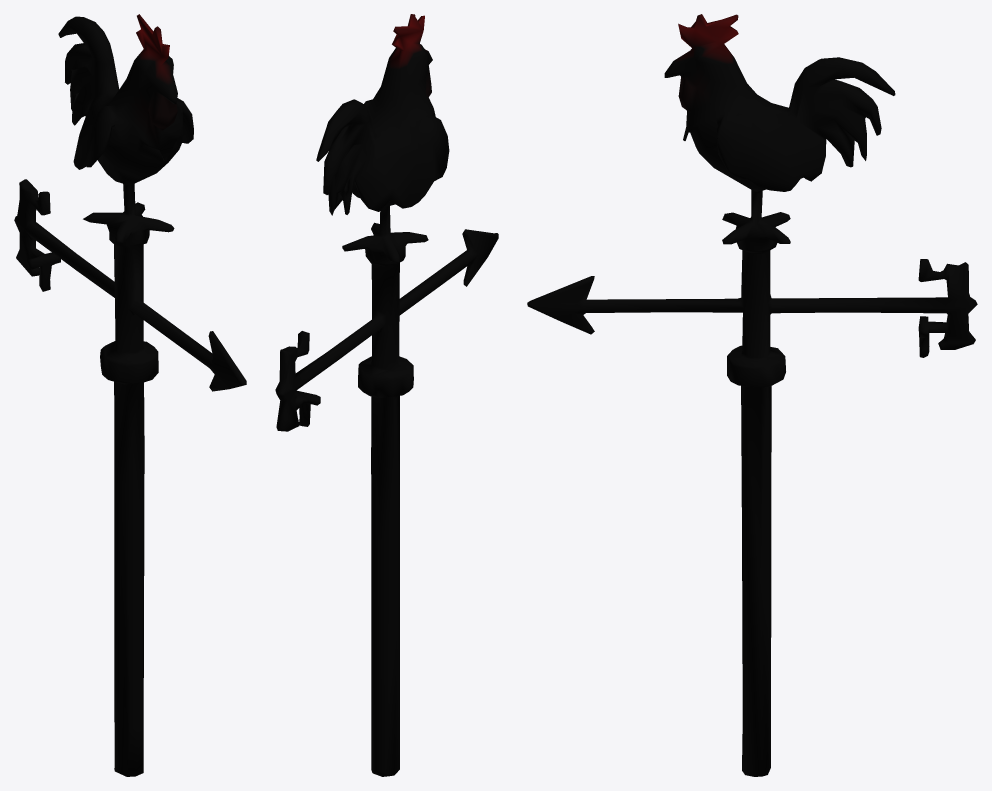
File: gen3d-weather-vane-lod1.glb
The picture shows the model from 3 angles, left to right: view 1: azimuth 30°, elevation 25°; view 2: azimuth 150°, elevation 25°; view 3: azimuth 270°, elevation 25°; orthographic projection. The views are drawn at different scales.
Parts seen in each view (by area): view 1: part_0; view 2: part_0; view 3: part_0.
Boxes of the visible parts, bbox=[...] form: part_0: bbox=[14, 14, 246, 776]; part_0: bbox=[275, 14, 498, 776]; part_0: bbox=[527, 14, 977, 776].
Size of the model in its own units: 0.1389 by 0.9985 by 0.5386.
